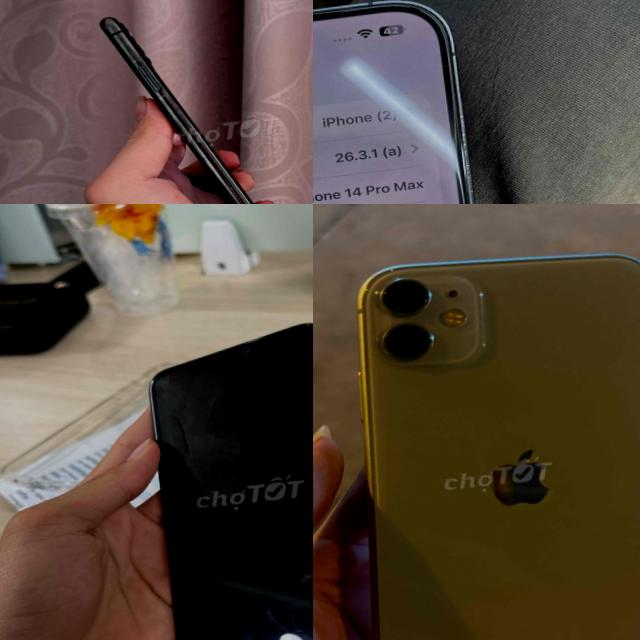gen_11: (332, 223, 640, 640), (90, 0, 290, 204)
gen_14: (313, 0, 528, 204)
gen_x_xs: (129, 312, 313, 640)
scratch: (151, 74, 280, 204), (291, 315, 313, 337)
